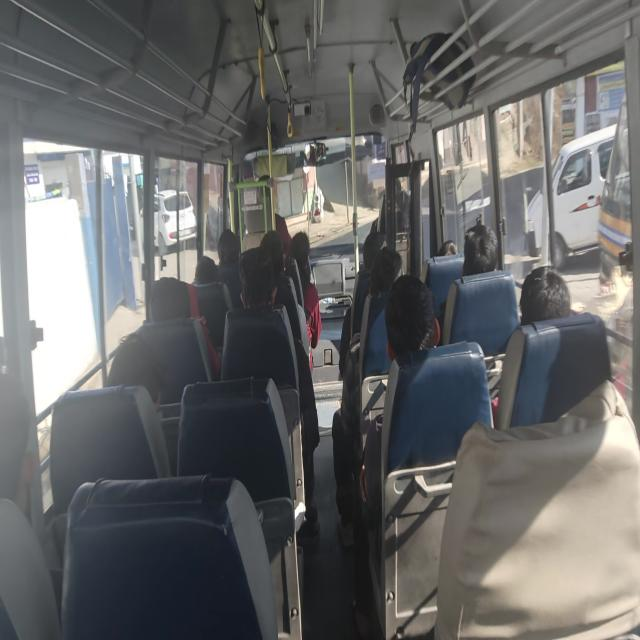person: (0, 348, 48, 532), (387, 271, 444, 371), (106, 328, 171, 411), (514, 265, 572, 331), (235, 246, 284, 320), (146, 273, 202, 324), (459, 217, 502, 282), (256, 224, 292, 277), (288, 217, 316, 273), (371, 245, 404, 291), (358, 221, 389, 264), (212, 226, 245, 264), (194, 252, 224, 281), (381, 174, 411, 201), (257, 174, 281, 202), (435, 234, 459, 255)
